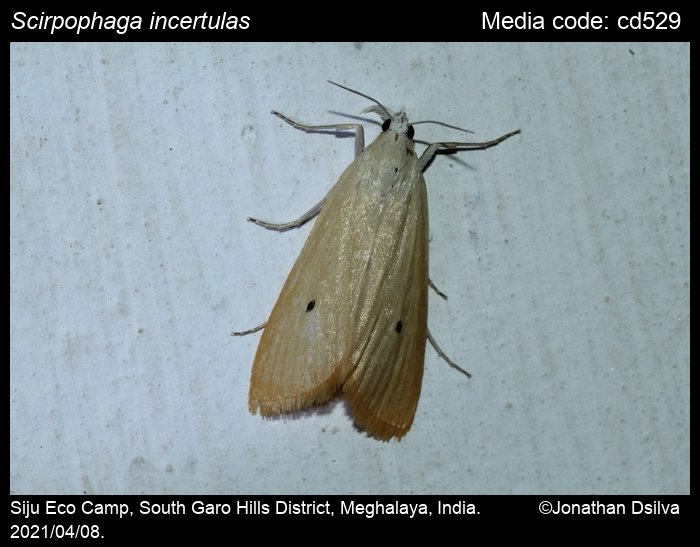Crambidae: (228, 79, 525, 443)
